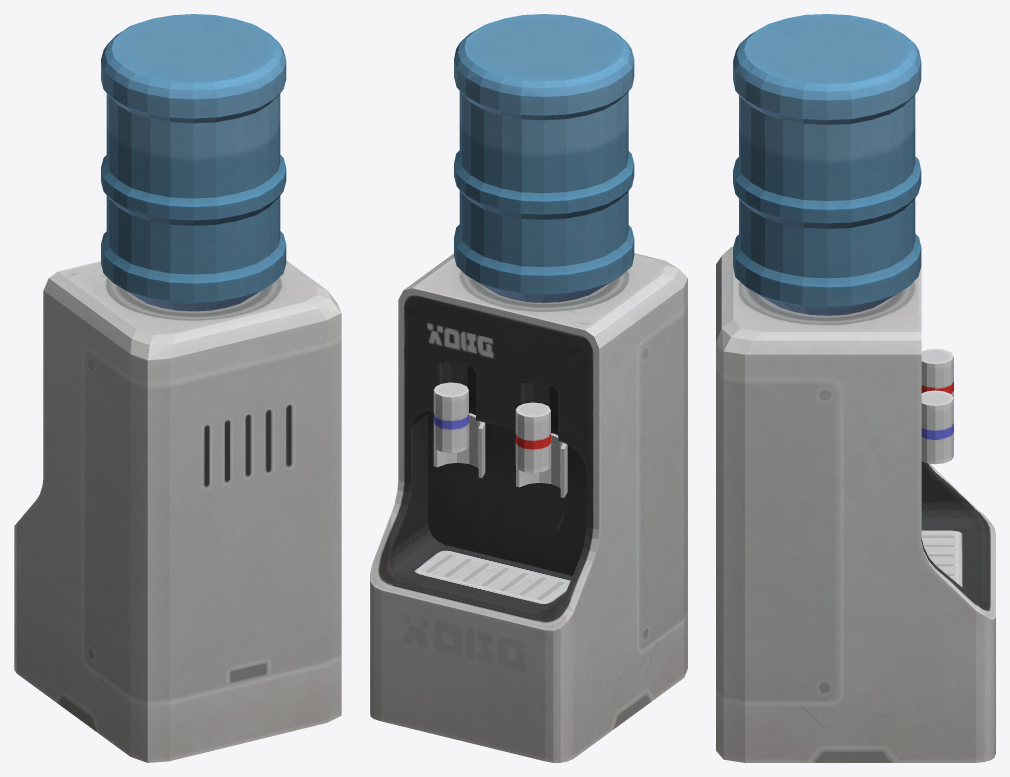
Rendered from P_WaterDispenser_001_S1_M01.obj.
The picture shows the model from 3 angles, left to right: view 1: azimuth 30°, elevation 25°; view 2: azimuth 150°, elevation 25°; view 3: azimuth 270°, elevation 25°; orthographic projection. The views are drawn at different scales.
Size of the model in its own units: 0.5524 by 1.67 by 0.6375.
1 material, 1 textured.
